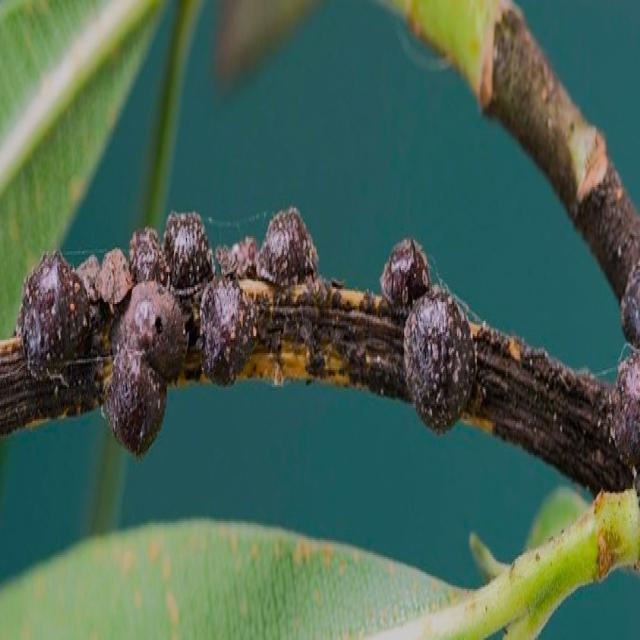BlackScale: (20, 208, 318, 455), (379, 238, 484, 432)
